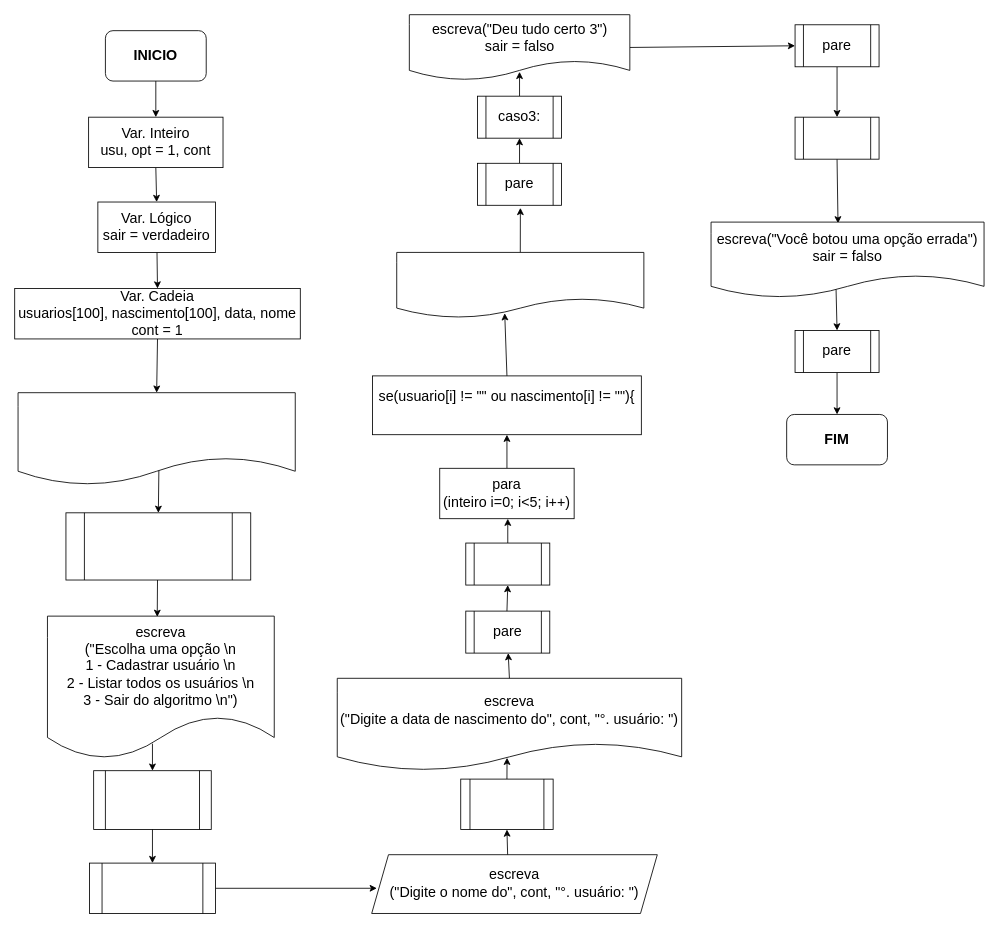
This 999x928 diagram has some shape labels left out. Each missing label, with the box of its shape:
caso contrario: (794, 116, 879, 159)
caso2:: (465, 542, 550, 585)
Enquanto: (460, 778, 553, 830)
enquanto (cont <= usu): (89, 862, 215, 914)
enquanto(sair != falso) se(opt < 1): (65, 512, 251, 580)
escolha(opt){ caso 1: opt = 0: (93, 770, 211, 830)
escreva ("Quantos usuários você vai cadastrar?"): (17, 392, 295, 485)
escreva(usuario[i],":",nascimento[i],): (396, 252, 644, 318)
